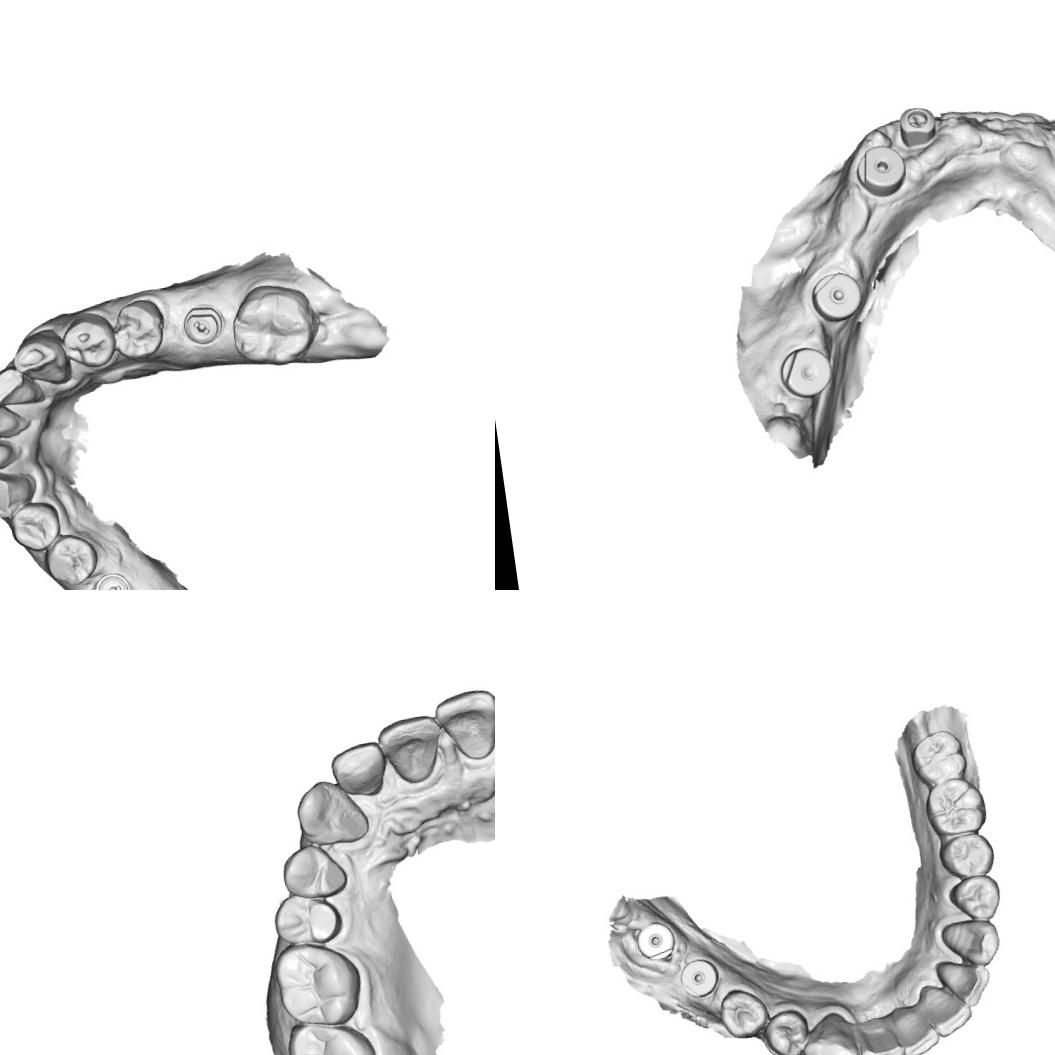canine: (287, 774, 375, 854), (8, 326, 72, 393), (938, 915, 1003, 971), (797, 1009, 862, 1055), (0, 464, 44, 523)
implant: (774, 343, 836, 403), (852, 141, 909, 199), (808, 268, 865, 325), (677, 956, 722, 1000), (895, 103, 938, 149), (634, 918, 678, 962)
implant_minus: (179, 302, 225, 350), (89, 568, 137, 590)
incisor: (374, 710, 447, 790), (430, 683, 495, 766), (326, 738, 394, 803), (855, 1014, 904, 1055), (0, 365, 41, 413), (953, 962, 994, 1009), (930, 997, 976, 1038), (899, 1019, 943, 1055), (0, 394, 26, 443), (0, 431, 20, 480)
molar: (268, 936, 368, 1035), (225, 277, 324, 373), (281, 1011, 385, 1055), (922, 775, 990, 838), (908, 727, 970, 787)
premolar: (266, 886, 346, 952), (278, 839, 351, 906), (105, 295, 170, 364), (56, 309, 120, 374), (38, 528, 105, 590), (4, 497, 66, 556), (716, 985, 771, 1042), (946, 871, 1004, 925), (936, 830, 997, 880), (759, 1007, 812, 1055)
